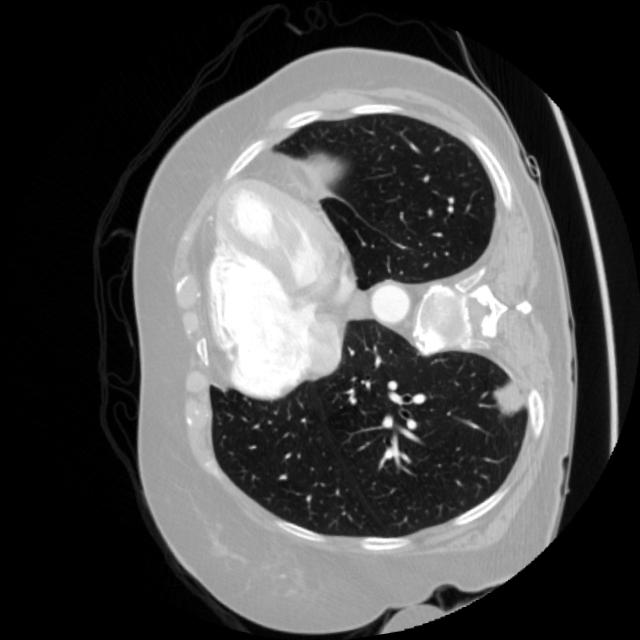nodule: (468, 359, 550, 442)
